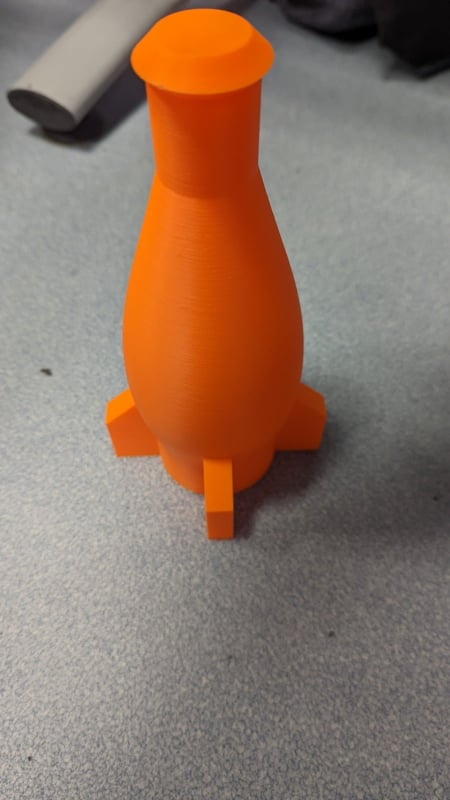bottle: (101, 9, 328, 544)
